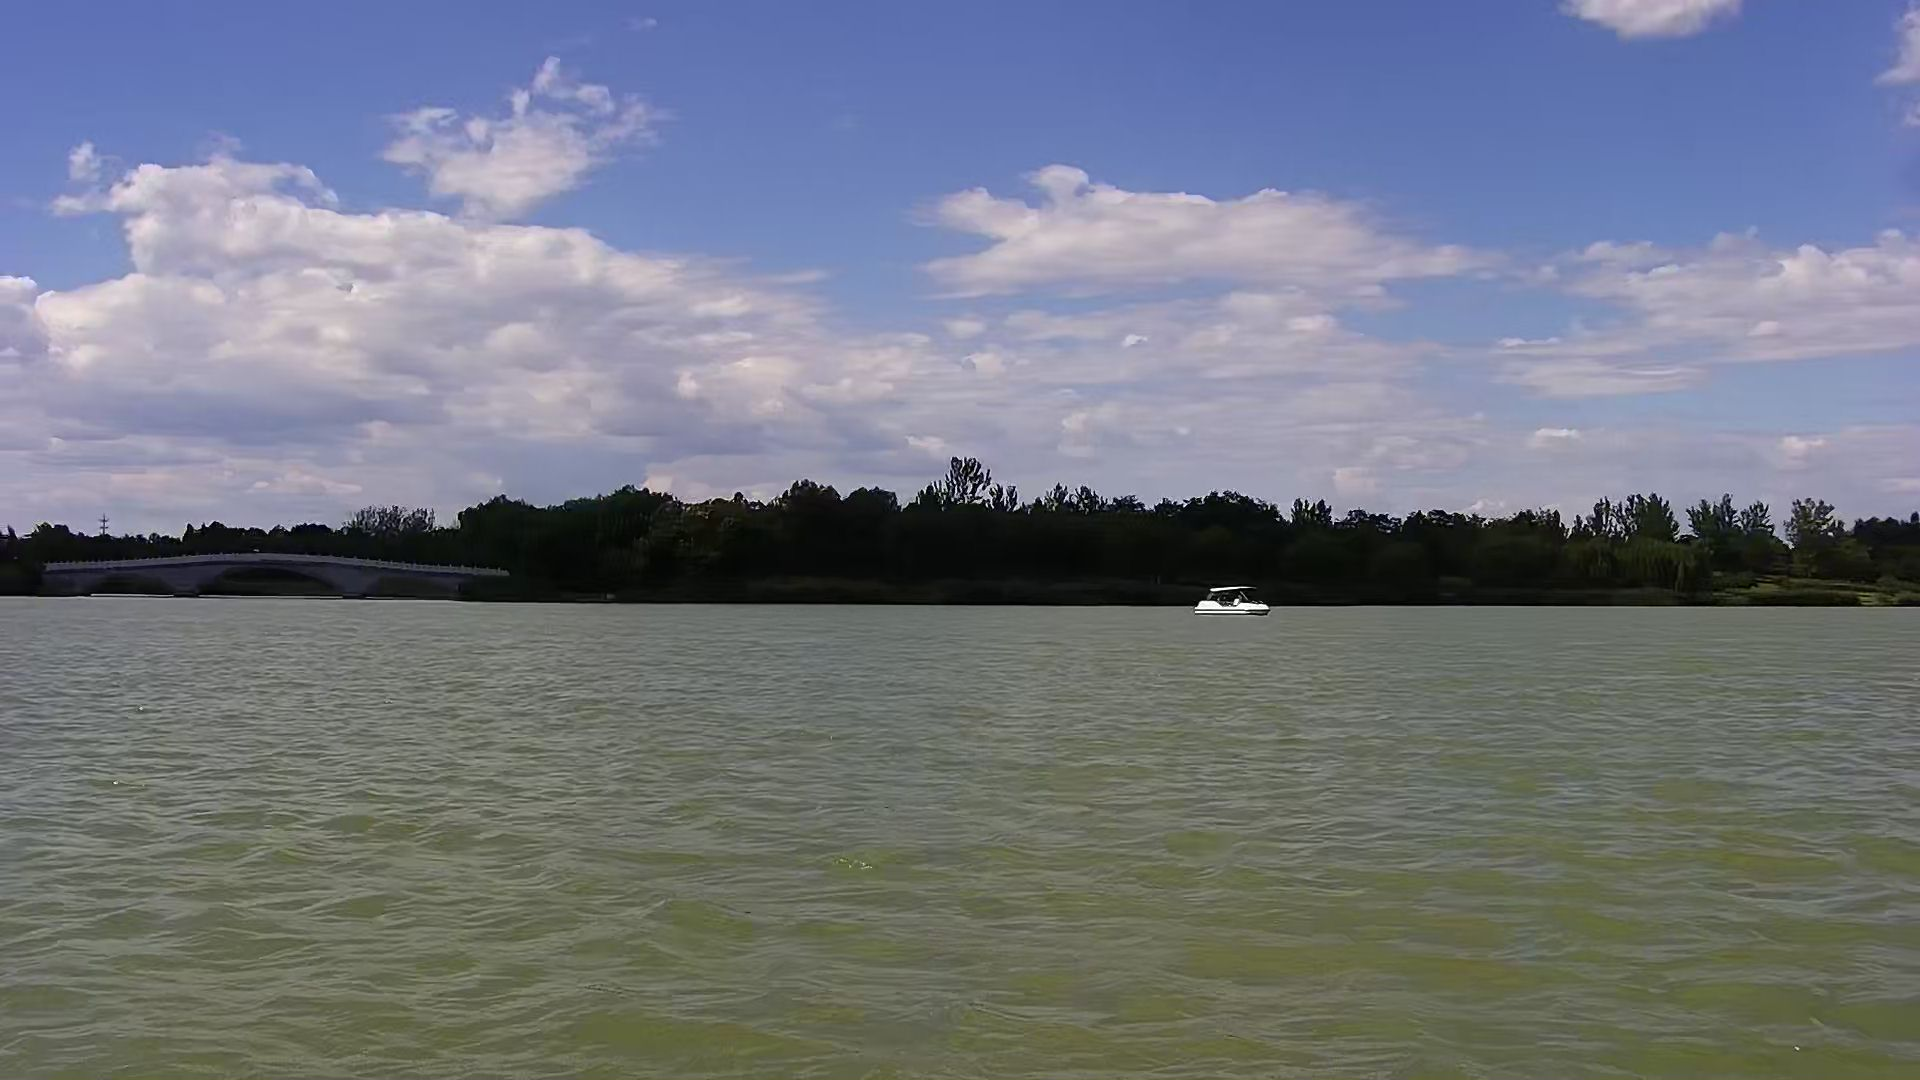boat: (1192, 580, 1278, 621)
bridge: (38, 546, 521, 608)
